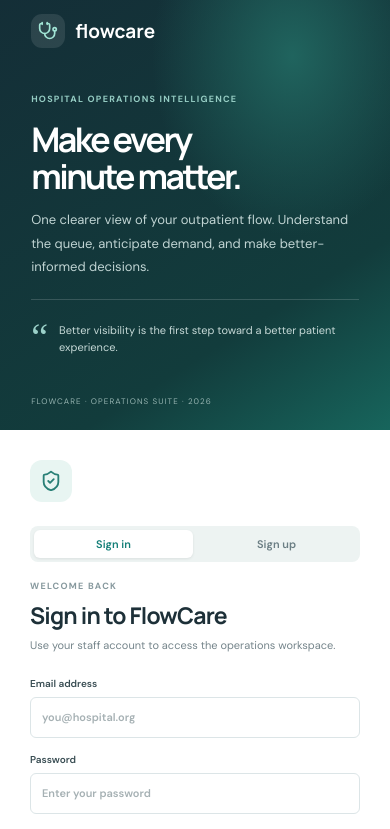
Test: FlowCare staff login › creates an account and opens the workspace as a receptionist
The image size is (390, 829).
Expected: the heading "Sign in to FlowCare" is shown, [30,599,227,631]
Click the tab "Sign up". click: [276, 544]
box: [197,530,356,558]
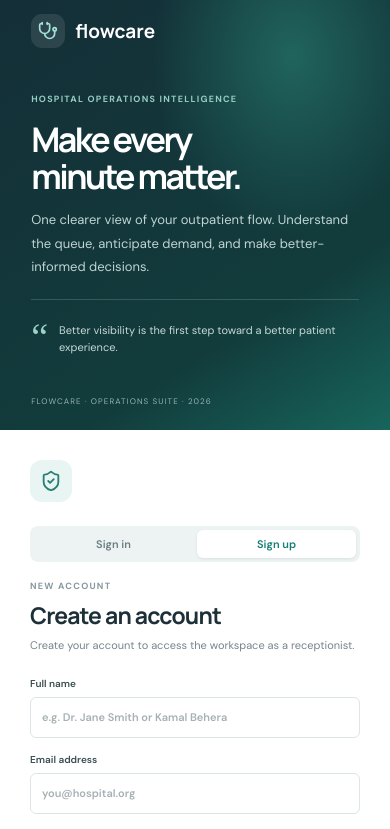
Type "New User" into the field labelled "Full name". click: [195, 717]
box: [30,697,360,738]
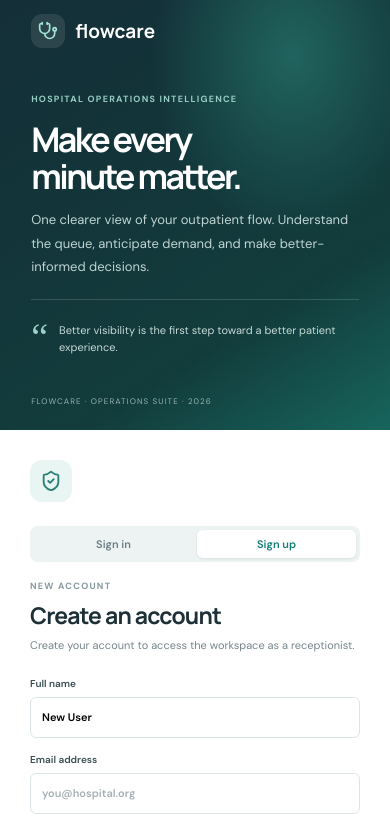
Type "new@example.com" into the field labelled "Email address". click: [195, 793]
box: [30,773,360,814]
(page scrolled)
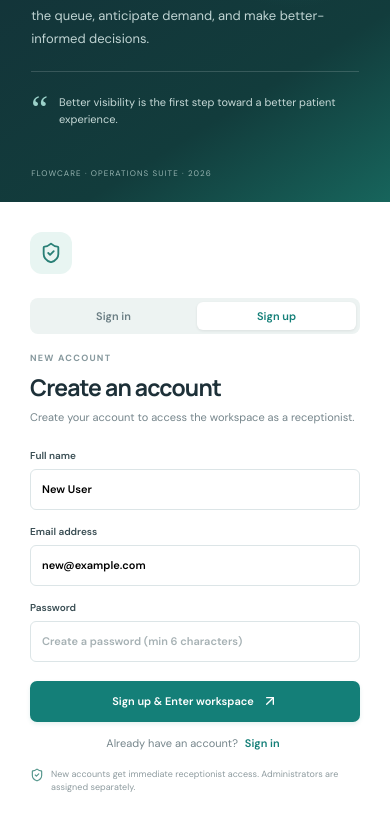
Type "private-password" into the password field labelled "Password". click: [195, 641]
box: [30,621,360,662]
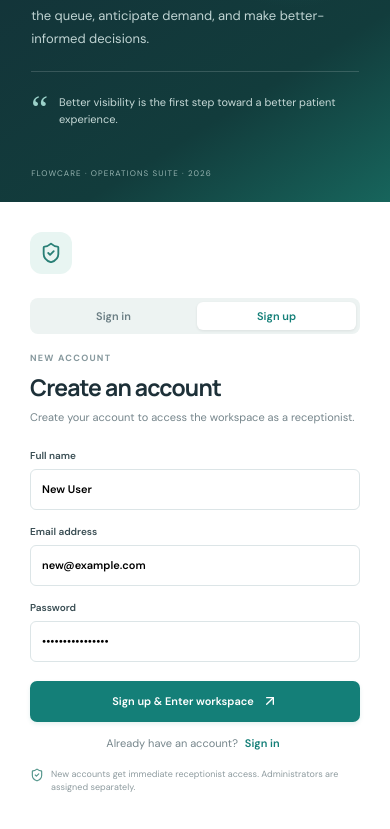
Click the button "Sign up & Enter workspace". click: [195, 701]
box: [30,681,360,722]
(page scrolled)
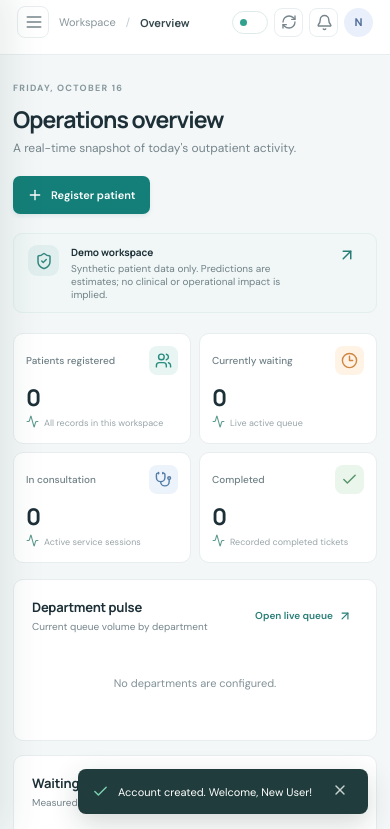
Expected: the heading "Operations overview" is shown, [13,103,224,135]
